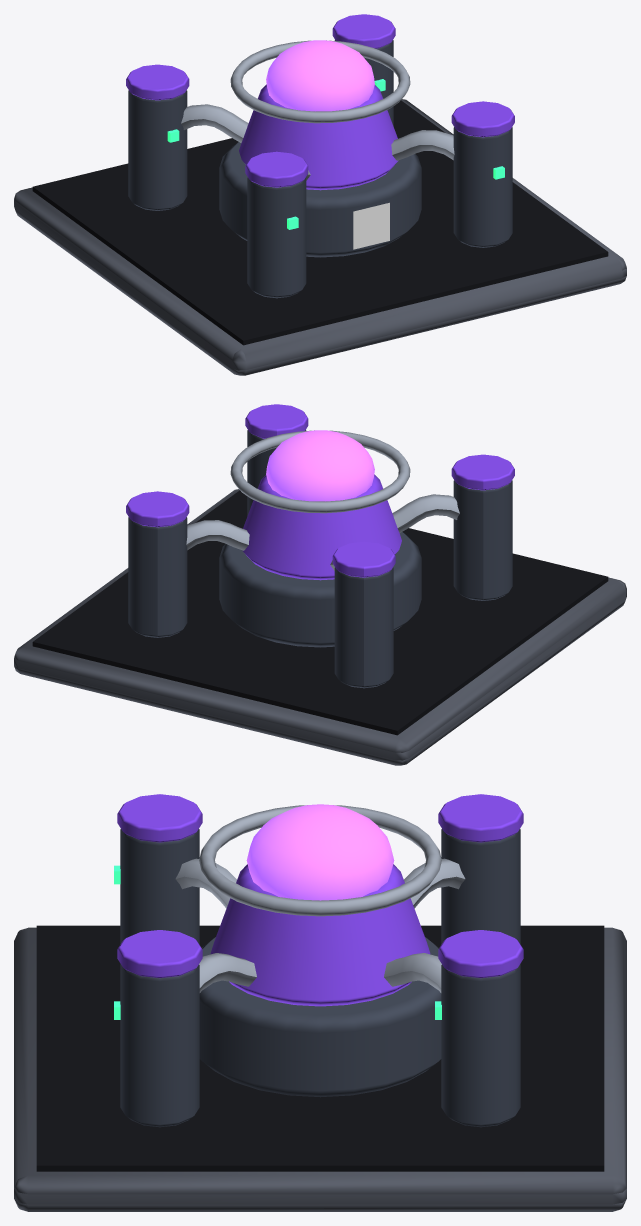
Rendered from tgw.glb.
3 renders of one model, top to bottom at view 1: azimuth 30°, elevation 25°; view 2: azimuth 150°, elevation 25°; view 3: azimuth 270°, elevation 25°, orthographic. The views are drawn at different scales.
Parts seen in each view (by area): view 1: body.rubber, body.steel, body.concrete, body.accent, body.accent_glow, spin_ring.steel_light, body.steel_light, body.badge, body.led; view 2: body.rubber, body.steel, body.concrete, body.accent, body.accent_glow, spin_ring.steel_light, body.steel_light; view 3: body.rubber, body.steel, body.concrete, body.accent, body.accent_glow, spin_ring.steel_light, body.steel_light.
Part boxes in pixels (x1,y1,x2,y2): body.rubber: (32,100,608,345); body.steel: (128,40,512,298); body.concrete: (14,99,626,375); body.accent: (126,14,514,190); body.accent_glow: (266,40,374,111); spin_ring.steel_light: (230,40,410,123); body.steel_light: (181,104,454,180); body.badge: (353,202,389,249); body.led: (167,79,504,229); body.rubber: (32,490,608,735); body.steel: (128,430,512,688); body.concrete: (14,489,626,765); body.accent: (126,404,514,580); body.accent_glow: (266,430,374,501); spin_ring.steel_light: (230,430,410,513); body.steel_light: (186,494,459,570); body.rubber: (36,925,604,1171); body.steel: (120,829,520,1127); body.concrete: (14,927,626,1211); body.accent: (117,794,523,1006); body.accent_glow: (246,804,394,900); spin_ring.steel_light: (199,805,441,916); body.steel_light: (175,858,465,992).
Size of the model in its own units: 1.08 by 0.533 by 1.08.
